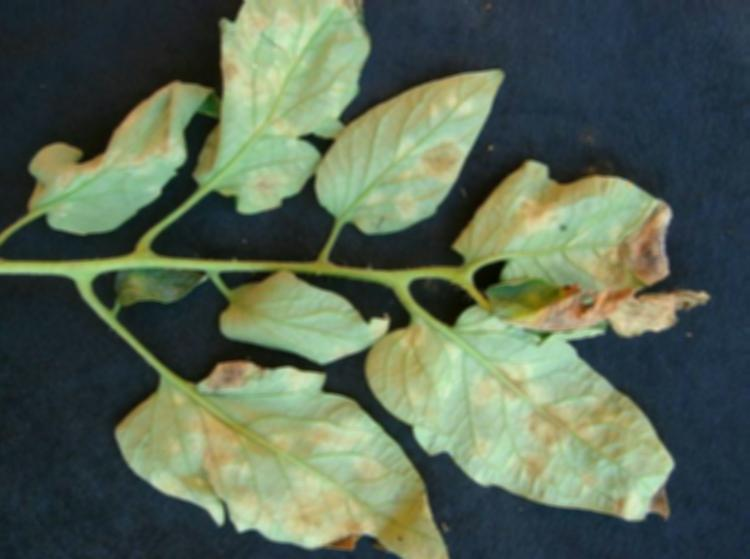Tomato mold leaf: (89, 353, 482, 559), (353, 292, 681, 528), (189, 1, 373, 220), (309, 53, 507, 233), (27, 74, 211, 231), (455, 156, 665, 285), (205, 271, 383, 369)
